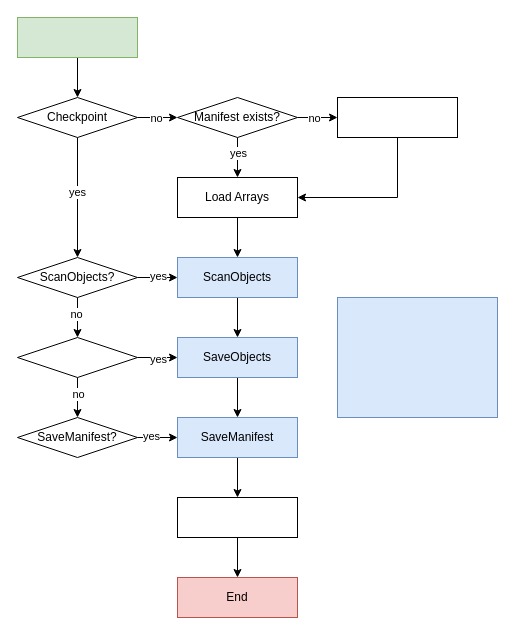
Image size: 515x635. Some labels were removed from this diagram. The centre of each missing label's shape, as x and y in pixels:
Create empty manifest: pixel 397 117
Delete checkpoint: pixel 237 517
SaveObjects?: pixel 77 357
Start: pixel 77 37
These functions should enable loading previously saved data.: pixel 417 357
